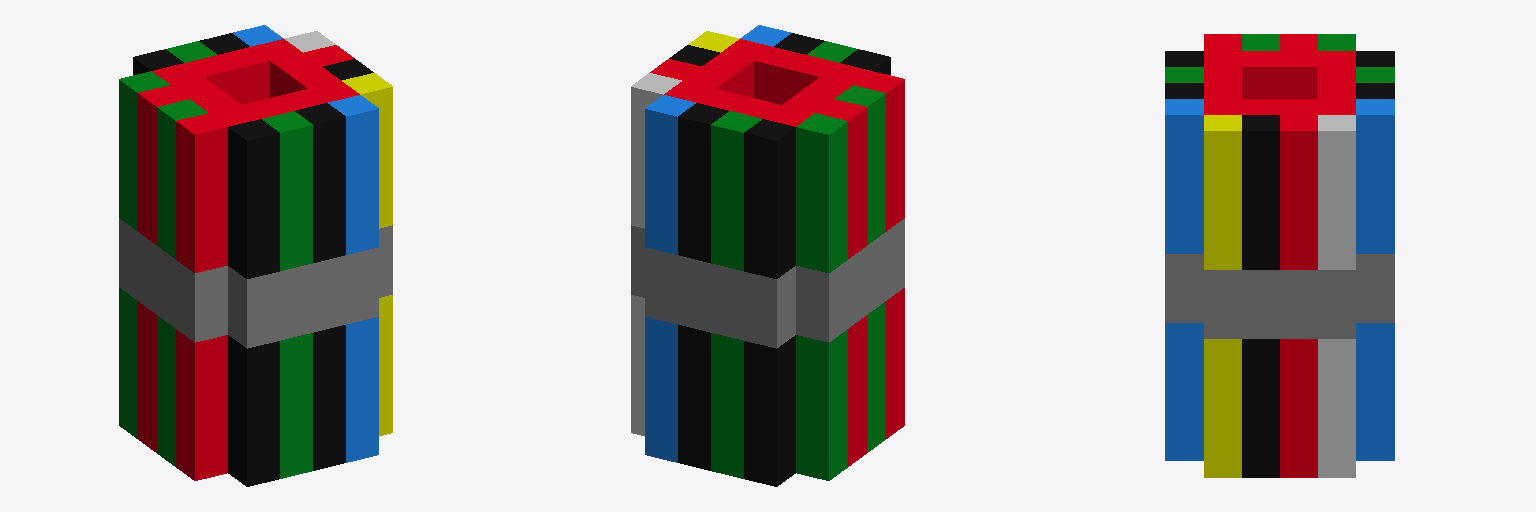
The picture shows the model from 3 angles: view 1: azimuth 30°, elevation 25°; view 2: azimuth 150°, elevation 25°; view 3: azimuth 270°, elevation 25°; orthographic projection.
Parts seen in each view (by area): view 1: wires_bundle; view 2: wires_bundle; view 3: wires_bundle.
Boxes of the visible parts, x1=… form: wires_bundle: x1=119, y1=25, x2=392, y2=486; wires_bundle: x1=631, y1=25, x2=904, y2=486; wires_bundle: x1=1165, y1=34, x2=1394, y2=477.
Bounding box in the file's own units: 6 × 10 × 6.
Materials: 1 (1 with a texture image).